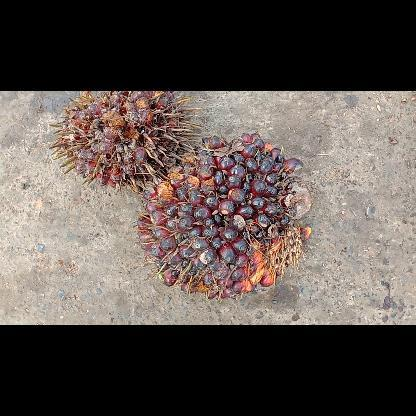Kurang masak: (134, 132, 312, 302)
TBS masak: (49, 91, 201, 191)
